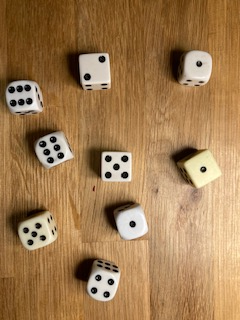five: (16, 210, 58, 252), (101, 150, 133, 182)
four: (86, 258, 122, 303)
one: (178, 148, 224, 191), (113, 201, 150, 241), (178, 50, 213, 87)
six: (34, 130, 74, 168), (6, 80, 45, 116)
two: (76, 51, 113, 92)
